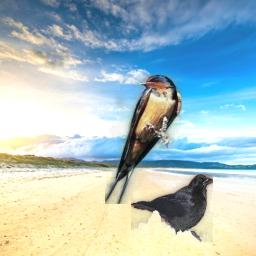Crow: (131, 174, 213, 243)
Swallow: (105, 74, 182, 204)
